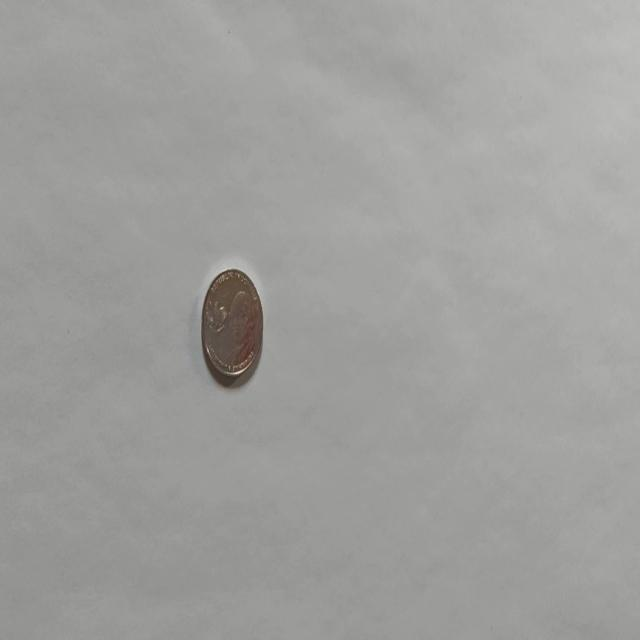lima ratus rupiah: (200, 266, 264, 384)
